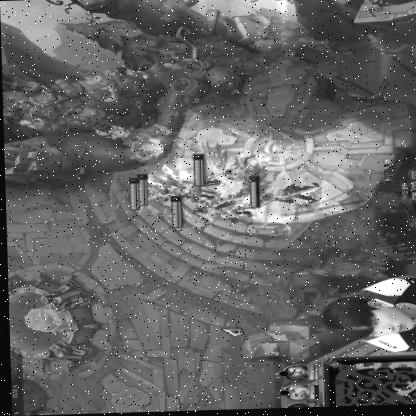streamer: (320, 270, 416, 364)
